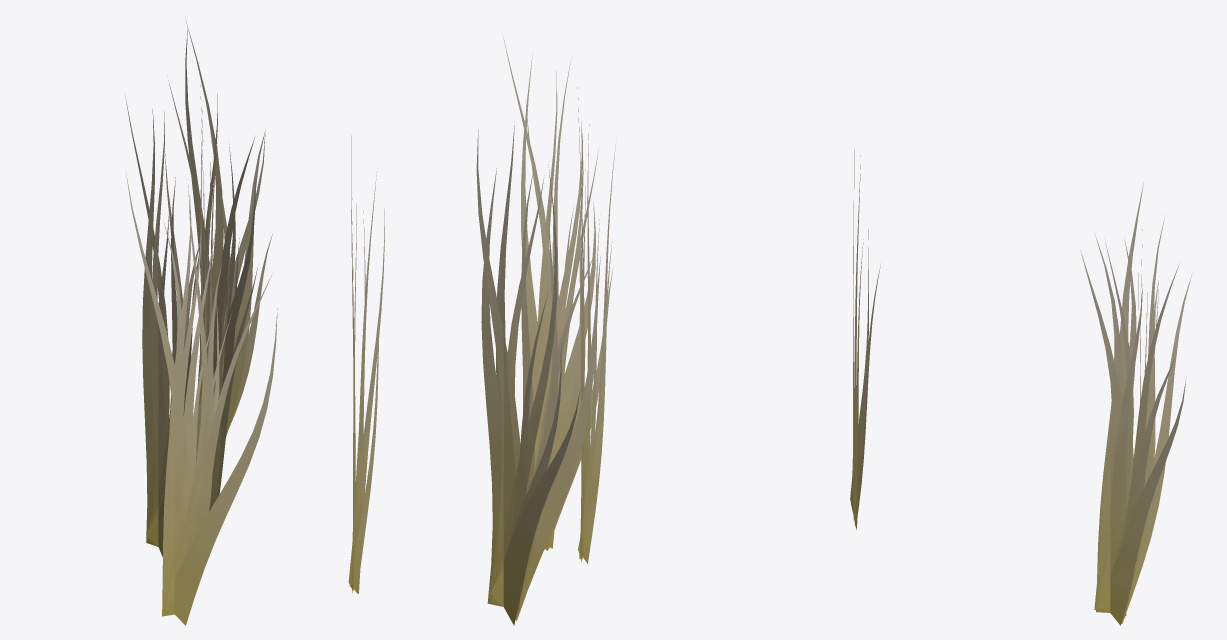
The model's file is mesh-plant-024-sunset-fanweed_LOD0.glb.
The picture shows the model from 3 angles, left to right: view 1: azimuth 30°, elevation 25°; view 2: azimuth 150°, elevation 25°; view 3: azimuth 270°, elevation 25°; orthographic projection. The views are drawn at different scales.
Visible parts, largest first — view 1: geometry_0; view 2: geometry_0; view 3: geometry_0.
Boxes of the visible parts, box(x1,y1,x2,y2) form: geometry_0: box(125, 21, 277, 625); geometry_0: box(348, 34, 615, 625); geometry_0: box(850, 149, 1191, 625).
Bounding box in the file's own units: 1.02 × 1.69 × 1.24.
